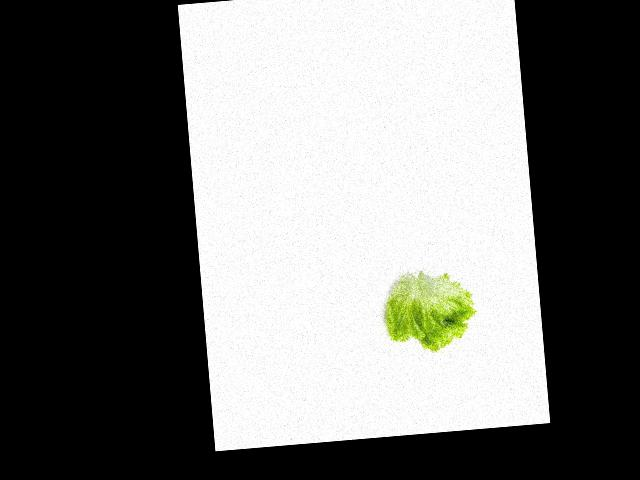lettuce: (372, 253, 485, 363)
